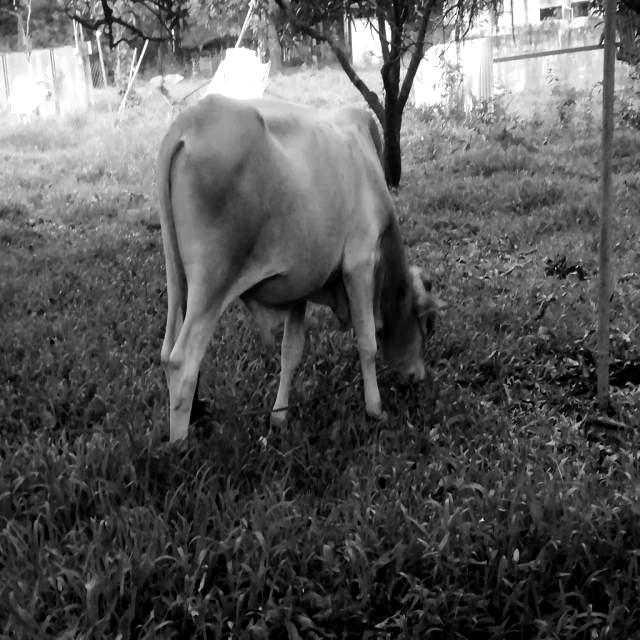COW: (158, 95, 439, 441)
